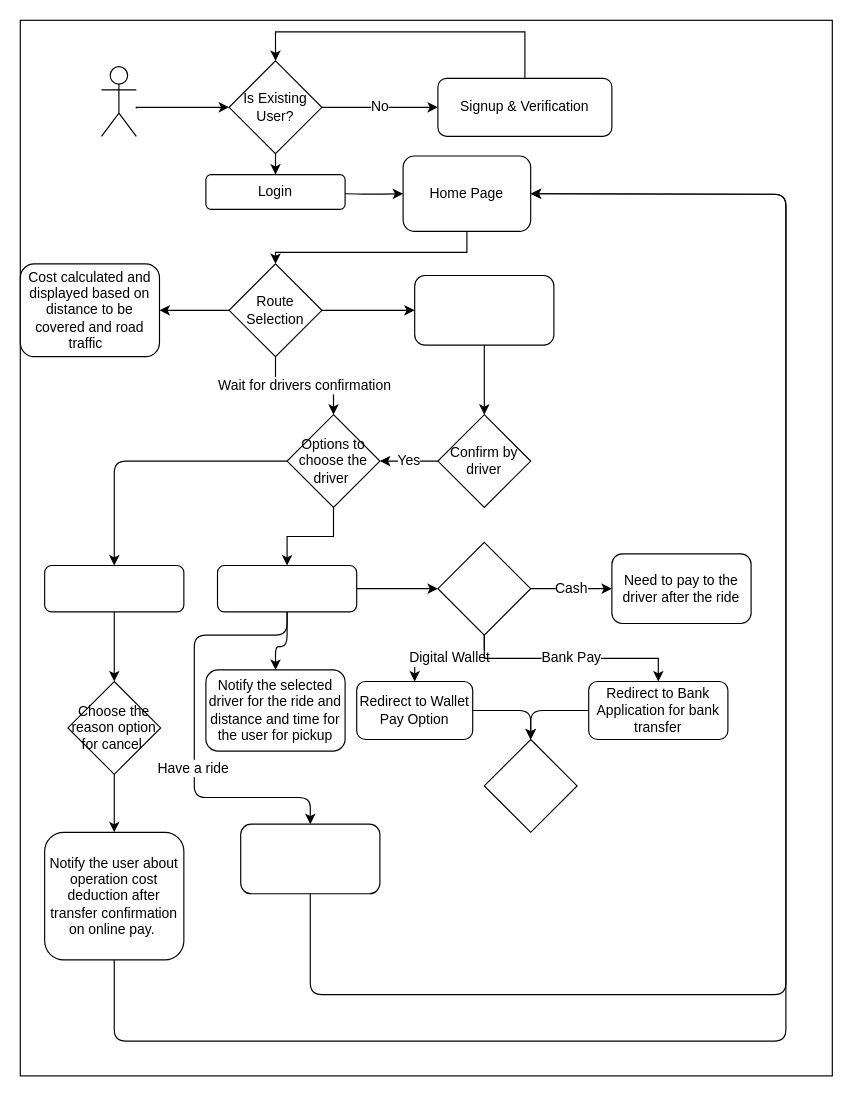
Some shapes in this 853 by 1096 pixel diagram are drawn without their labels. The centre of each missing label's shape, as x and y in pixels:
Actor: (118,101)
Cancel the ride: (114,588)
Confirms the transfer: (530,785)
Notification Sent to Near by Ride App Driver: (484,309)
Option to pay for the ride: (484,588)
Pay for the ride to driver for cash option Rate the ride: (310,858)
Select the ride: (286,588)
